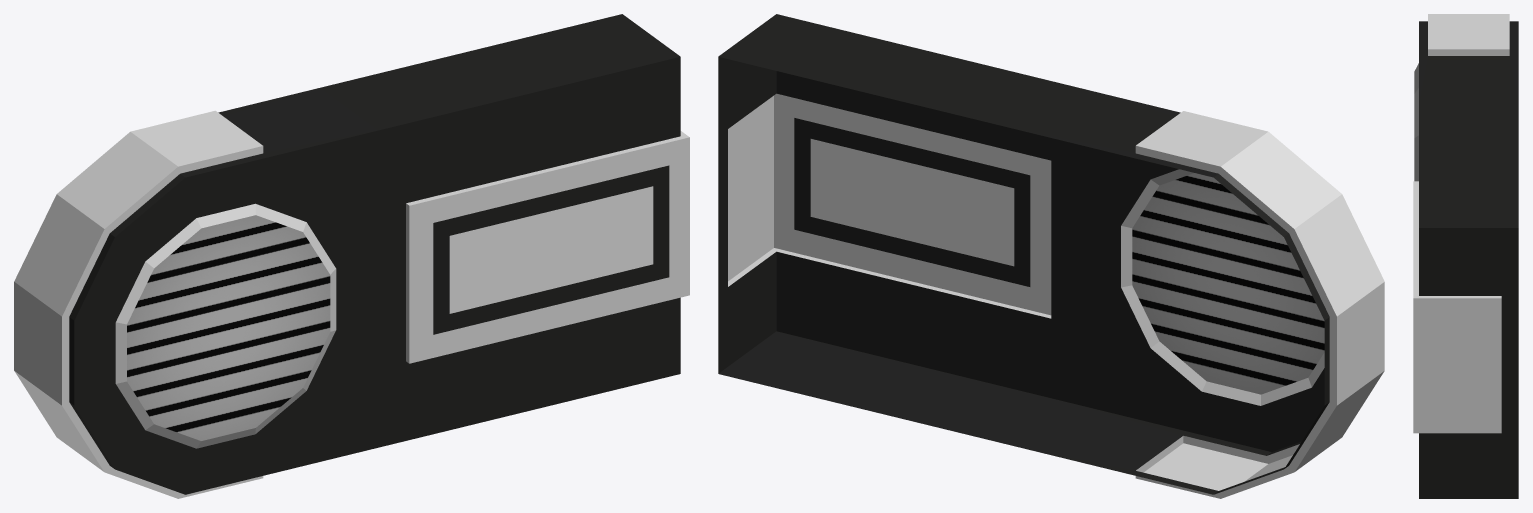
File: Conditioner.fbx
3 renders of one model, left to right at view 1: azimuth 30°, elevation 25°; view 2: azimuth 150°, elevation 25°; view 3: azimuth 270°, elevation 25°, orthographic. The views are drawn at different scales.
Parts seen in each view (by area): view 1: Conditioner; view 2: Conditioner; view 3: Conditioner.
Boxes of the visible parts, x1,y1,x2,y2 form: Conditioner: [14, 14, 689, 498]; Conditioner: [718, 14, 1384, 498]; Conditioner: [1413, 14, 1518, 498].
Bounding box in the file's own units: 1.69 × 0.2908 × 0.8662.
